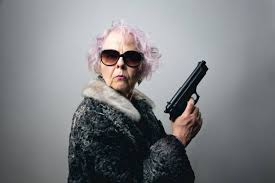gun: (163, 60, 210, 125)
